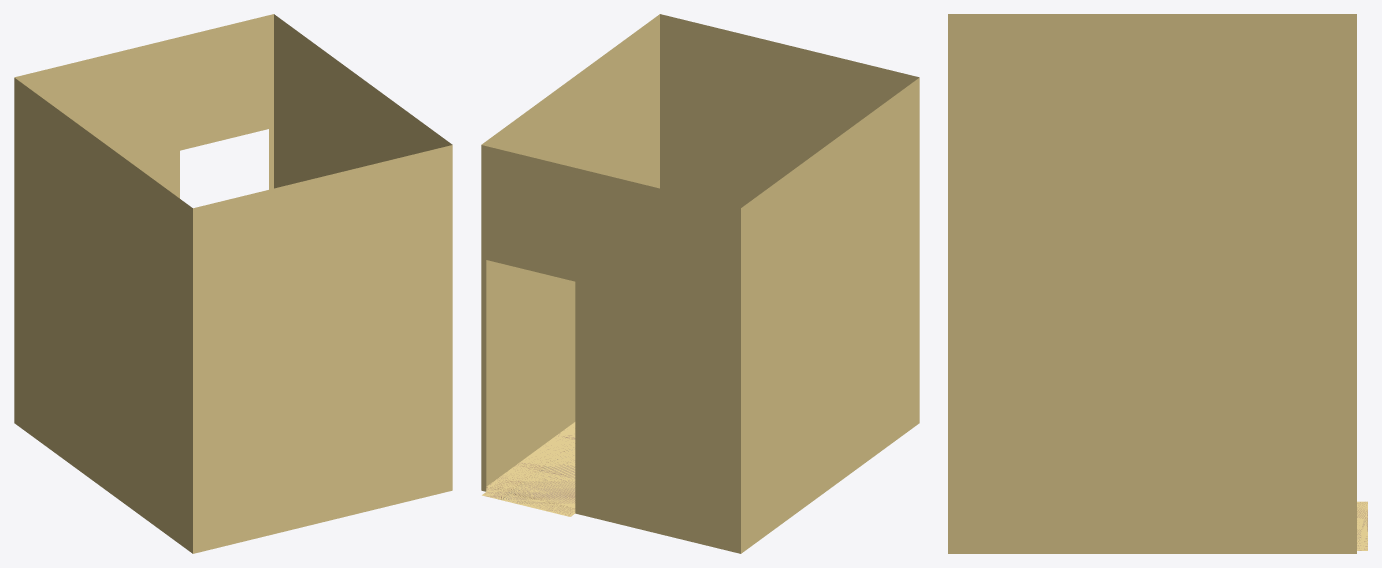
File: CUA020.obj
The picture shows the model from 3 angles, left to right: view 1: azimuth 30°, elevation 25°; view 2: azimuth 150°, elevation 25°; view 3: azimuth 270°, elevation 25°; orthographic projection. The views are drawn at different scales.
Visible parts, largest first — view 1: Mesh1 CUA020 Model; view 2: Mesh1 CUA020 Model; view 3: Mesh1 CUA020 Model.
Part boxes in pixels (x1,y1,x2,y2): Mesh1 CUA020 Model: (14, 14, 452, 553); Mesh1 CUA020 Model: (481, 14, 919, 553); Mesh1 CUA020 Model: (948, 14, 1367, 553).
Size of the model in its own units: 2.36 by 3 by 2.89.
2 materials, 1 textured.
